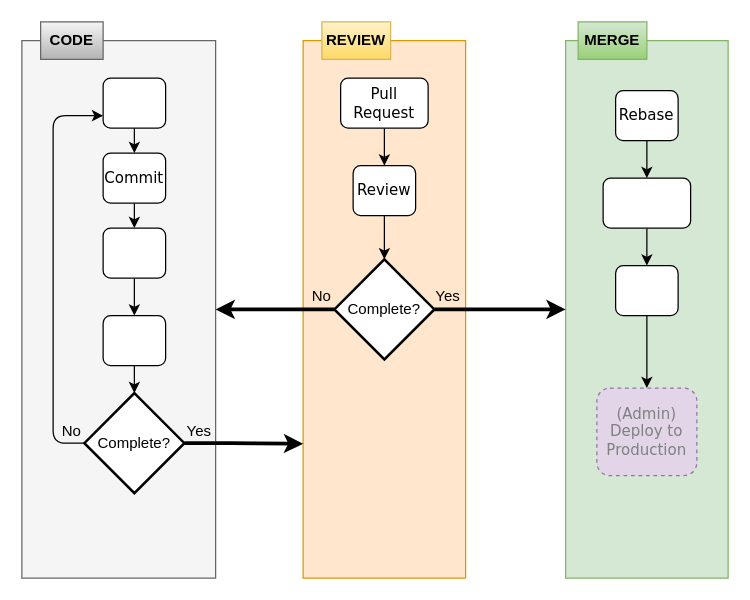
Image size: 750x600. Some labels were removed from this diagram. Here are the shapes that lost their labels. From the top down, the centre of each, then its label:
At [134,102]: "Edit".
At [646,202]: "Merge to Main".
At [134,252]: "Push".
At [646,290]: "Delete Branch".
At [134,340]: "Test".
